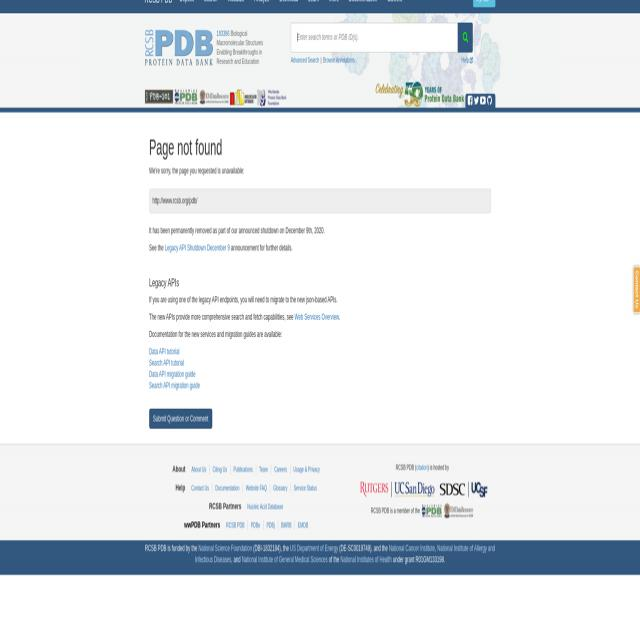button: (144, 30, 213, 68), (375, 82, 465, 109), (149, 408, 212, 428), (391, 480, 468, 496), (356, 480, 391, 496), (469, 481, 491, 504), (258, 91, 286, 108), (458, 22, 473, 53), (444, 506, 474, 520), (144, 92, 174, 105), (199, 92, 229, 105), (174, 90, 198, 106), (230, 92, 256, 105), (633, 266, 640, 313), (422, 505, 442, 519), (473, 95, 479, 106), (480, 95, 486, 106), (487, 95, 492, 106), (468, 96, 472, 106)
field: (290, 24, 458, 54)
